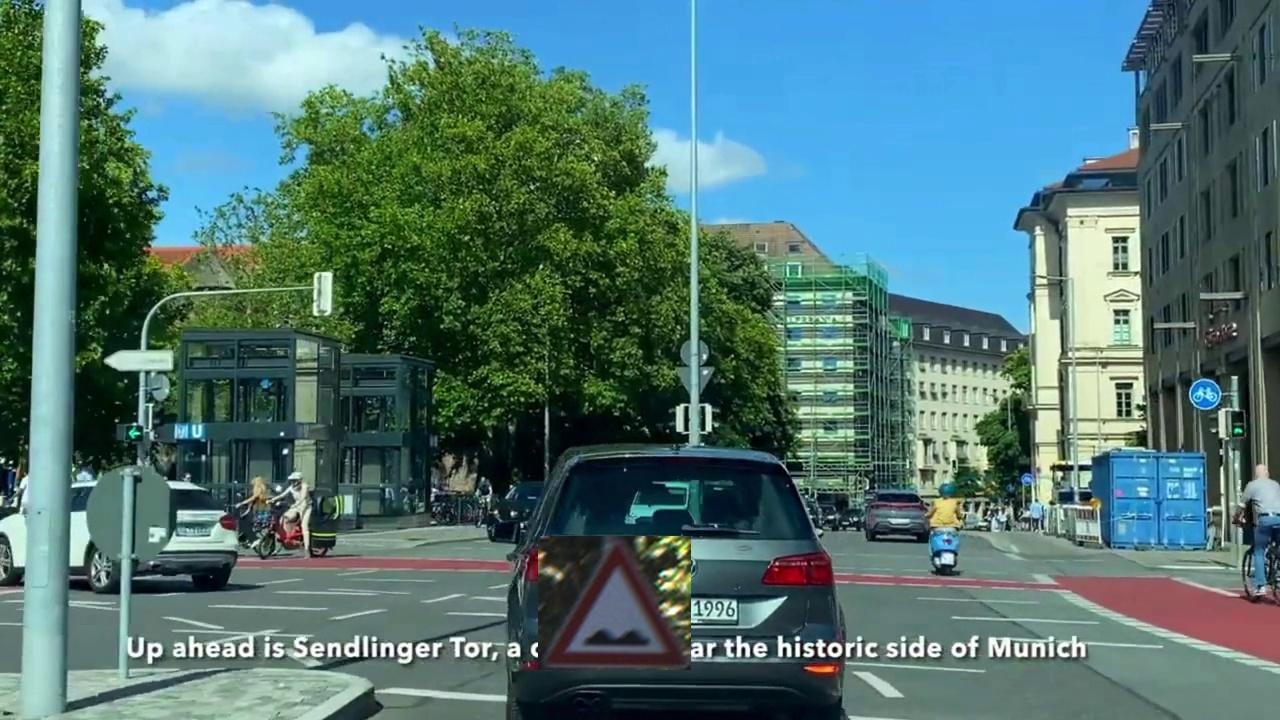Bumpy road: (538, 536, 691, 670)
